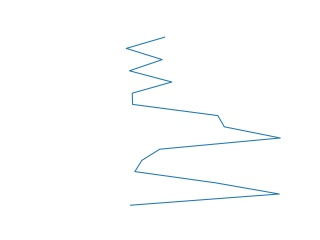majorRiverBedLagDeposit: (124, 36, 283, 209)
